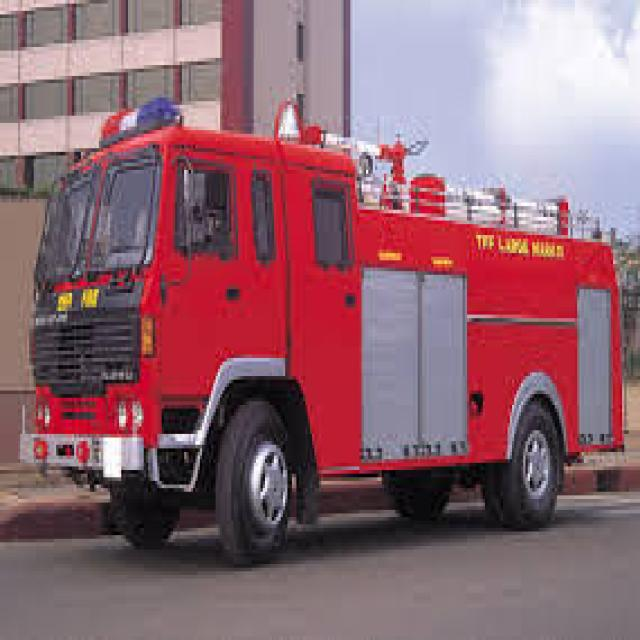Fire_brigade: (27, 79, 635, 572)
